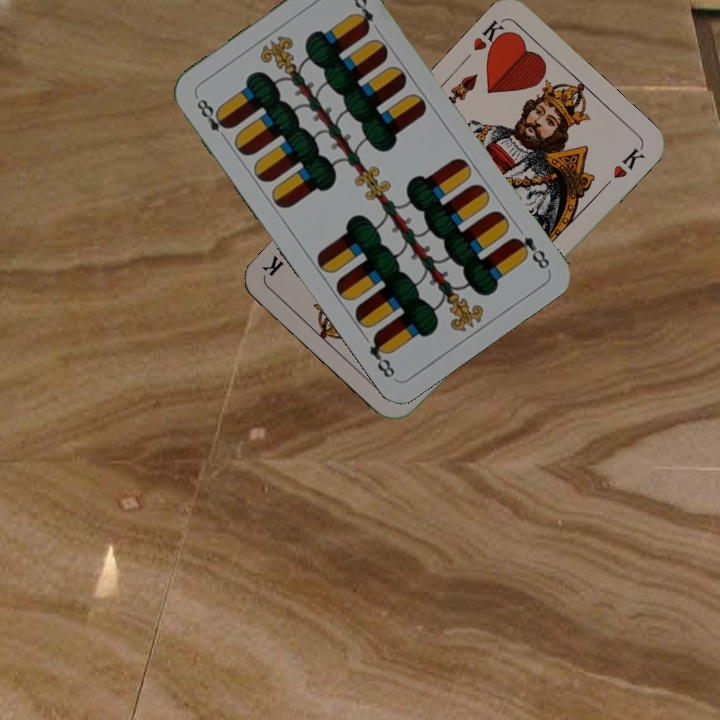E8: (192, 94, 234, 145), (508, 232, 553, 272)
HK: (469, 16, 513, 59)
